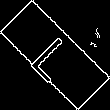L_NE: (26, 26, 84, 84)
